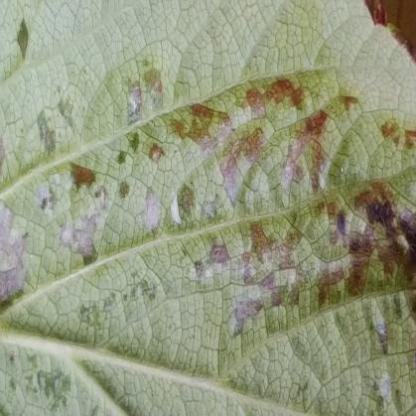Strawberry_Angular_LeafSpot: (0, 2, 415, 416)
